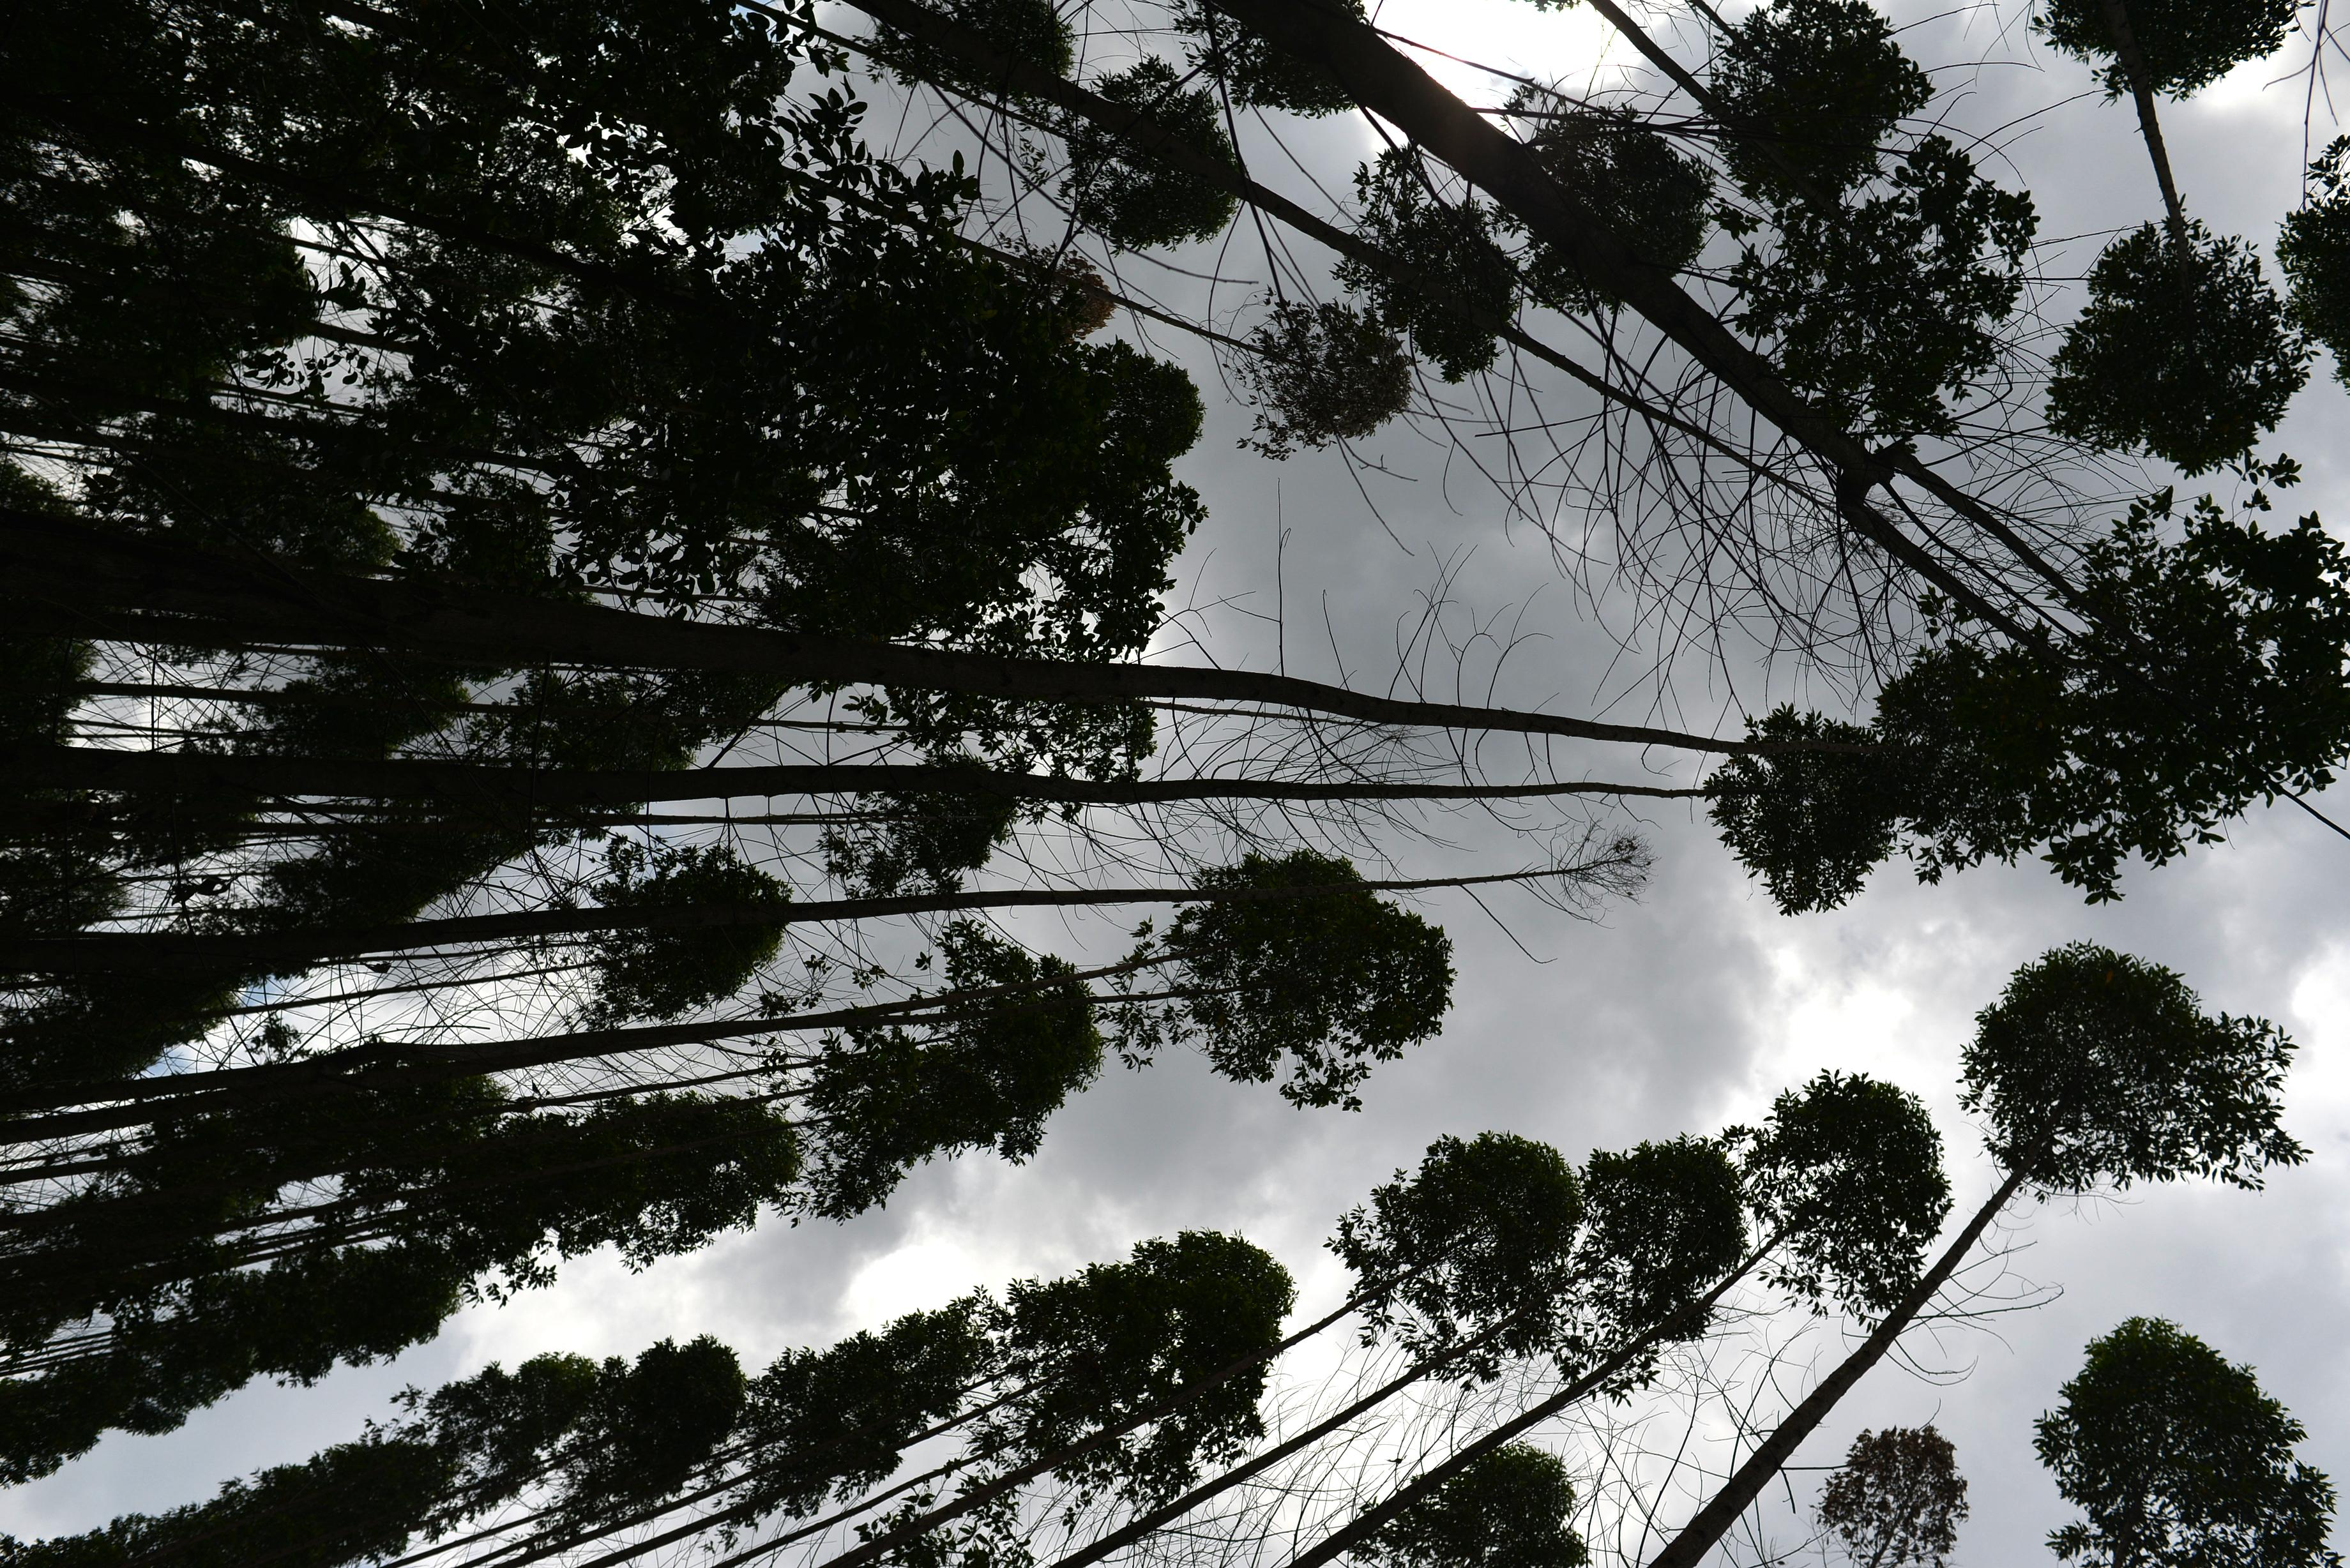Wither Tree Parts: (1547, 801, 1669, 920)
